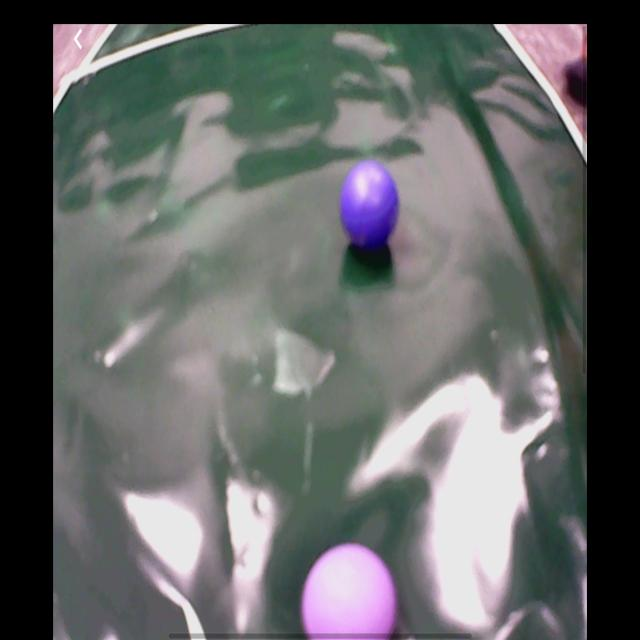ball: (300, 541, 399, 640), (341, 162, 400, 252)
